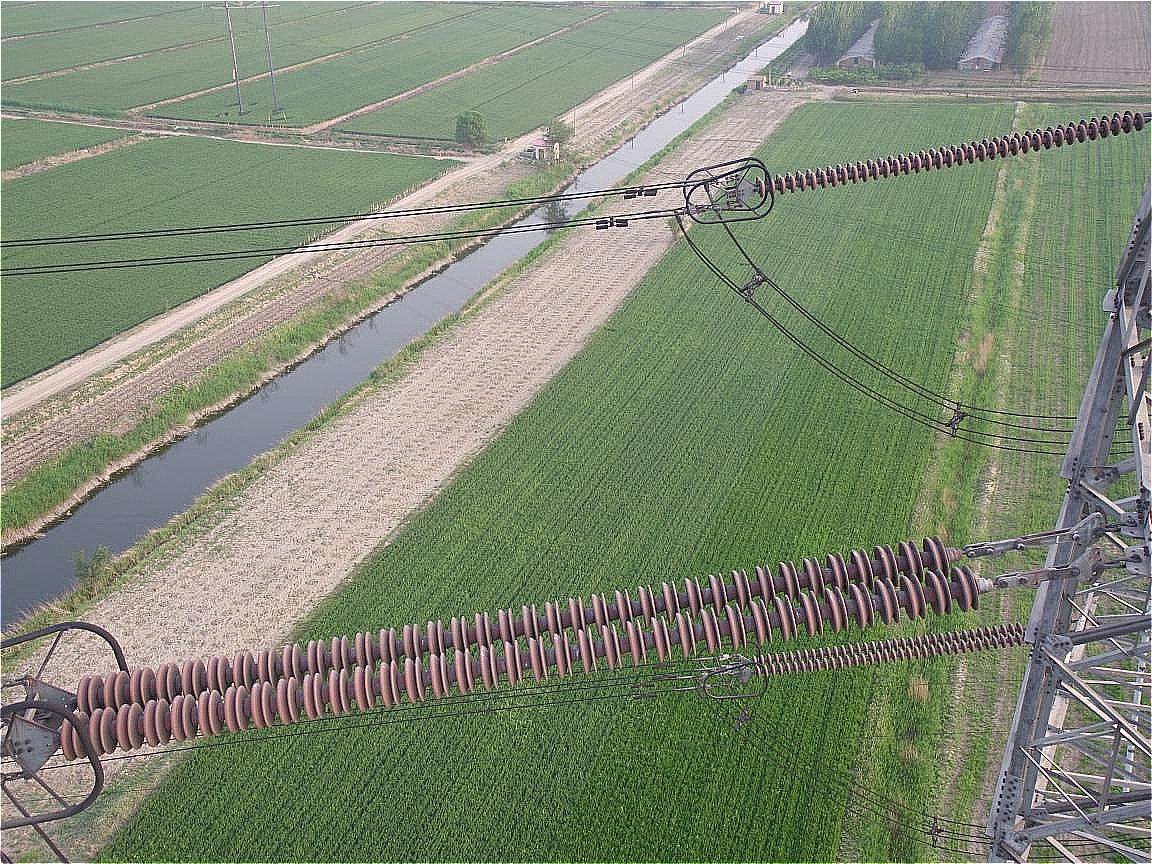insultor1: (751, 98, 1152, 208)
insultor2: (47, 523, 996, 762), (750, 606, 1036, 681)
